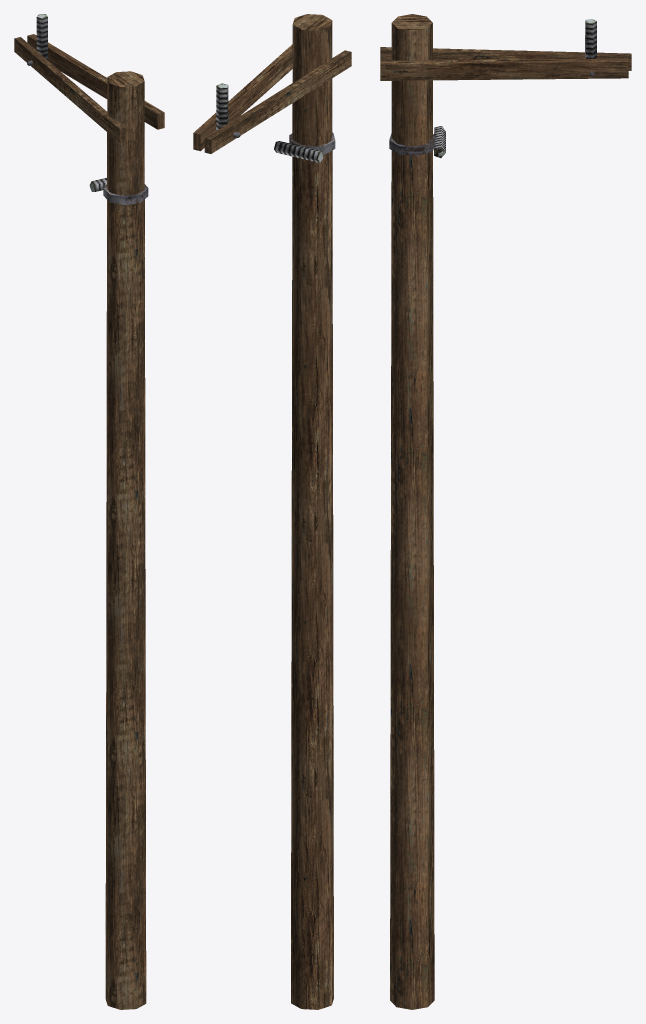
The model's file is powerlinepole1.FBX.
The picture shows the model from 3 angles, left to right: view 1: azimuth 30°, elevation 25°; view 2: azimuth 150°, elevation 25°; view 3: azimuth 270°, elevation 25°; orthographic projection. The views are drawn at different scales.
Parts seen in each view (by area): view 1: powerlinepole1; view 2: powerlinepole1; view 3: powerlinepole1.
Part boxes in pixels (x1,y1,x2,y2): powerlinepole1: [14, 14, 164, 1009]; powerlinepole1: [193, 14, 351, 1009]; powerlinepole1: [380, 14, 631, 1009].
Size of the model in its own units: 0.5019 by 9.79 by 2.28.
